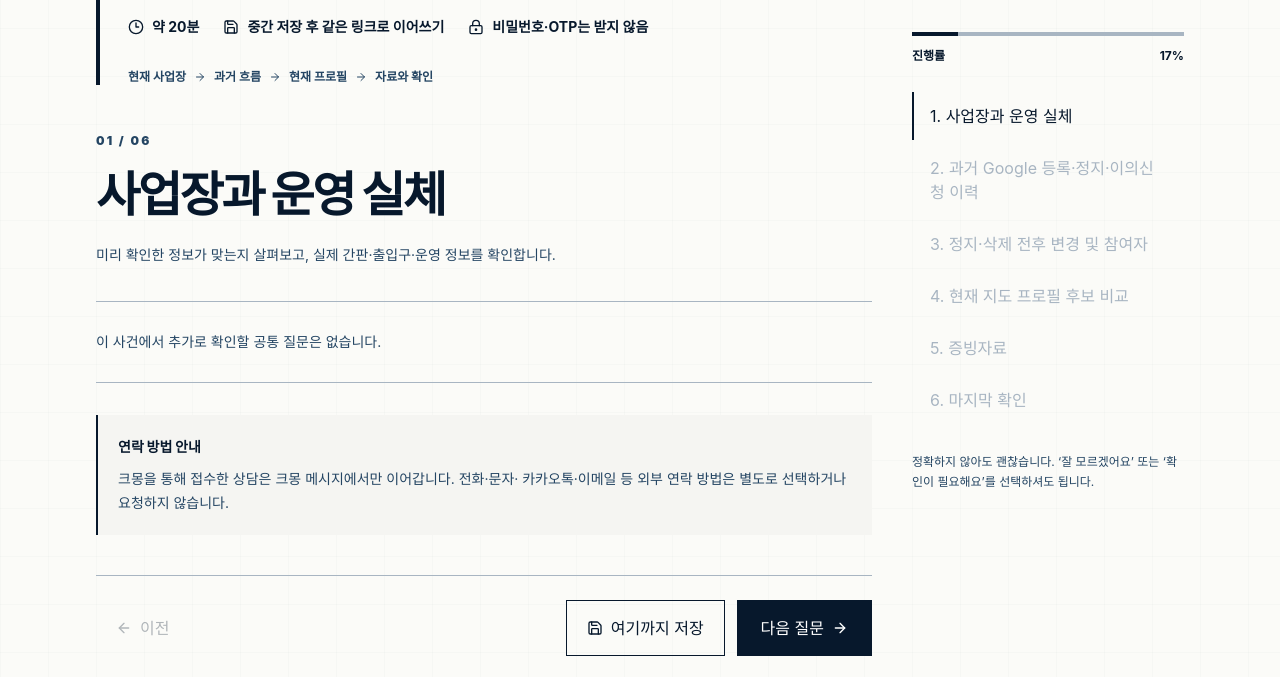
Test case: customer intake draft safety › maps local validation failures to a finite customer-safe message
(page scrolled)
Click the button "여기까지 저장" at (645, 628), box [566, 600, 725, 656]
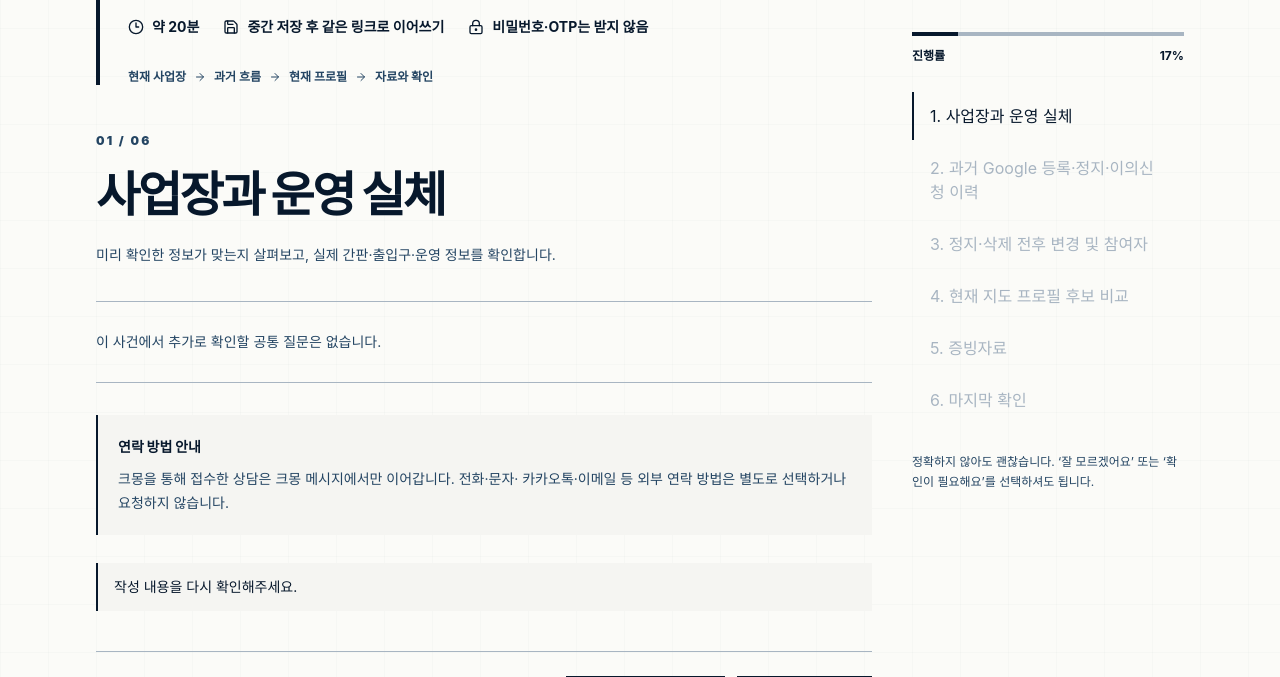
Check: the message reads "작성 내용을 다시 확인해주세요.", box [114, 578, 297, 595]
